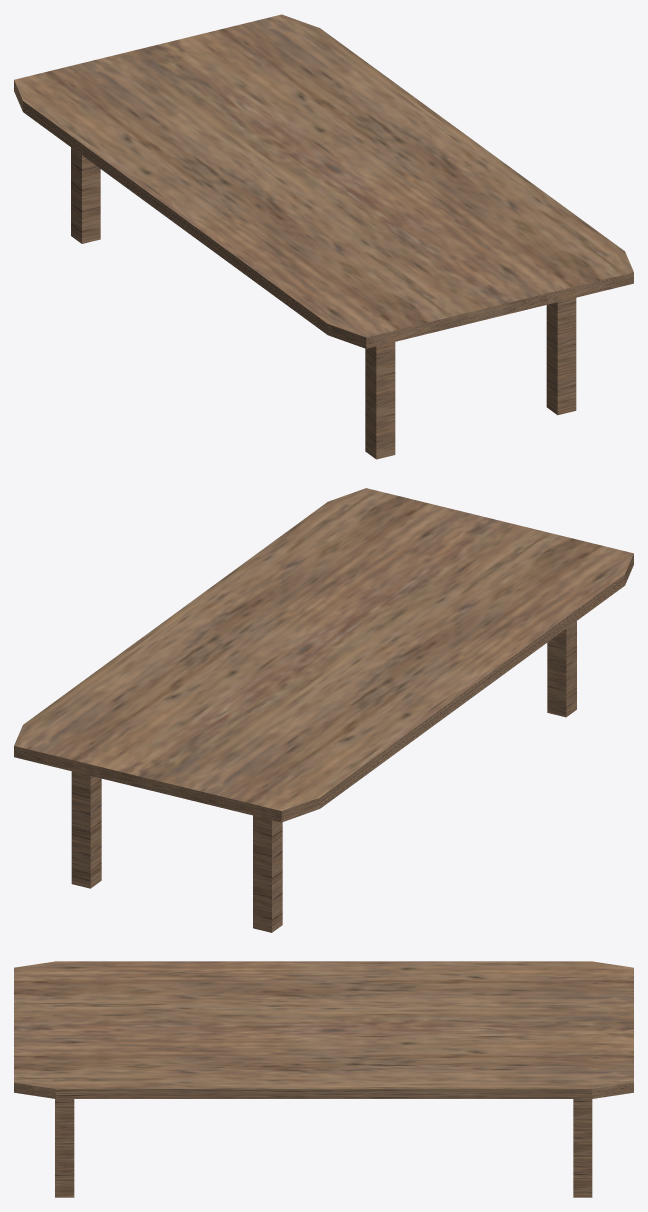
File: Table.fbx
The picture shows the model from 3 angles, top to bottom: view 1: azimuth 30°, elevation 25°; view 2: azimuth 150°, elevation 25°; view 3: azimuth 270°, elevation 25°; orthographic projection. The views are drawn at different scales.
Visible parts, largest first — view 1: Cube, Cube.004; view 2: Cube, Cube.004; view 3: Cube, Cube.004.
Boxes of the visible parts, left/top/right/bottom form: Cube: left=14, top=14, right=633, bottom=348; Cube.004: left=71, top=147, right=576, bottom=459; Cube: left=14, top=488, right=633, bottom=822; Cube.004: left=71, top=621, right=576, bottom=932; Cube: left=14, top=961, right=633, bottom=1098; Cube.004: left=55, top=1099, right=592, bottom=1197.
Bounding box in the file's own units: 577 × 274 × 1185.
